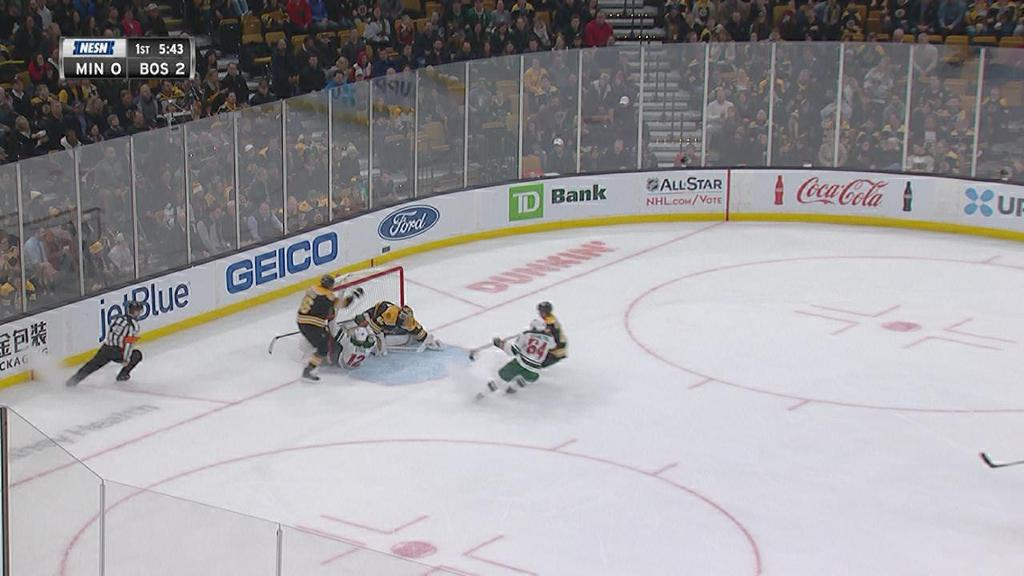geico: (220, 228, 342, 297)
